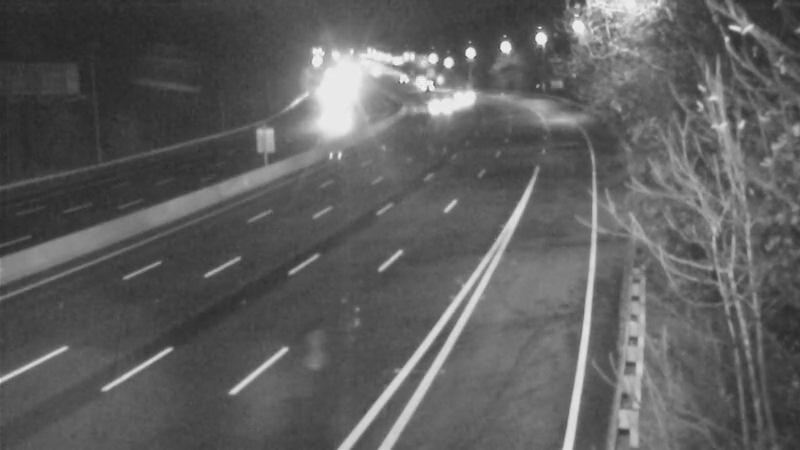vehicle: (399, 62, 449, 112), (434, 70, 484, 120), (412, 83, 462, 133)
